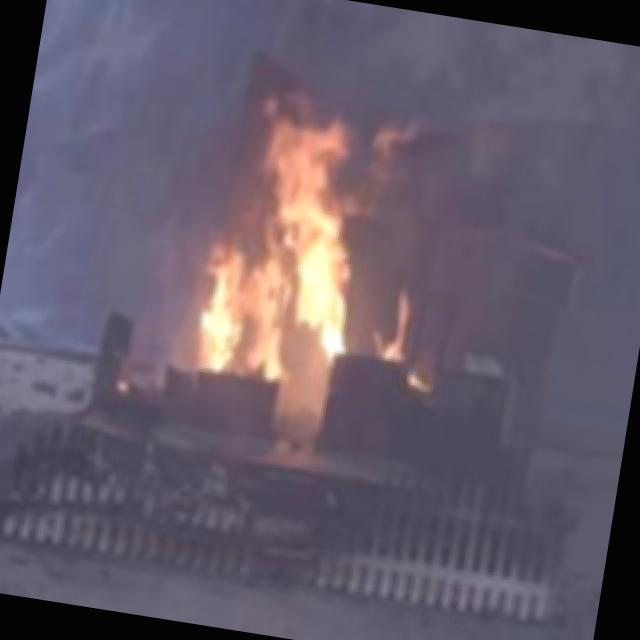fire: (182, 102, 423, 408)
